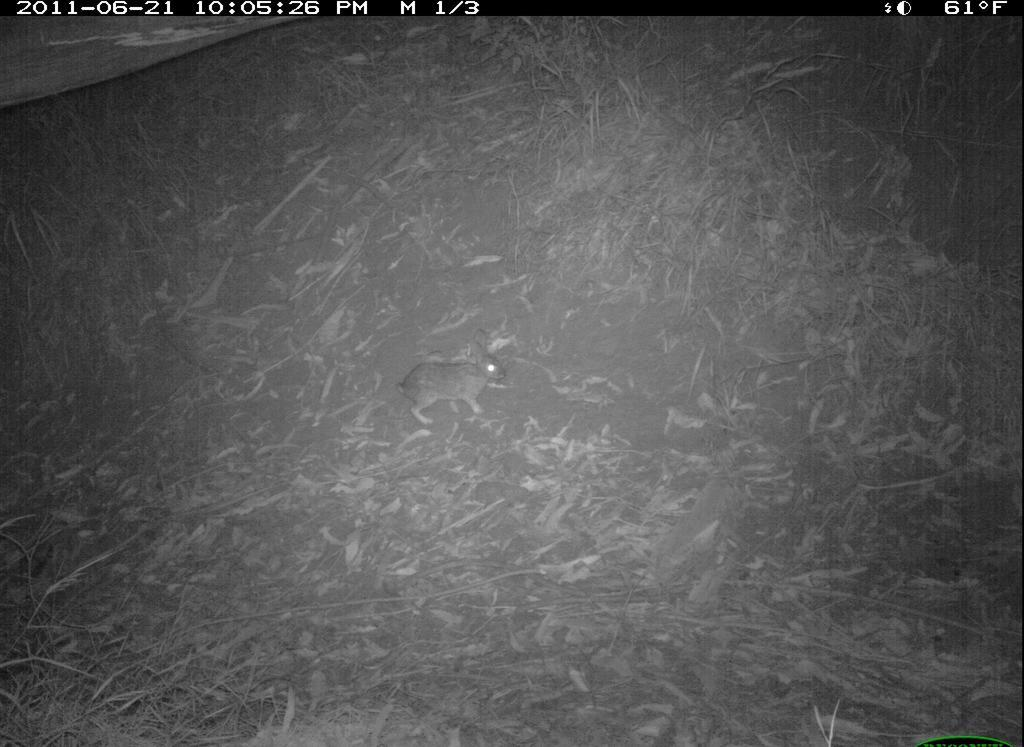rabbit: (387, 329, 530, 429)
